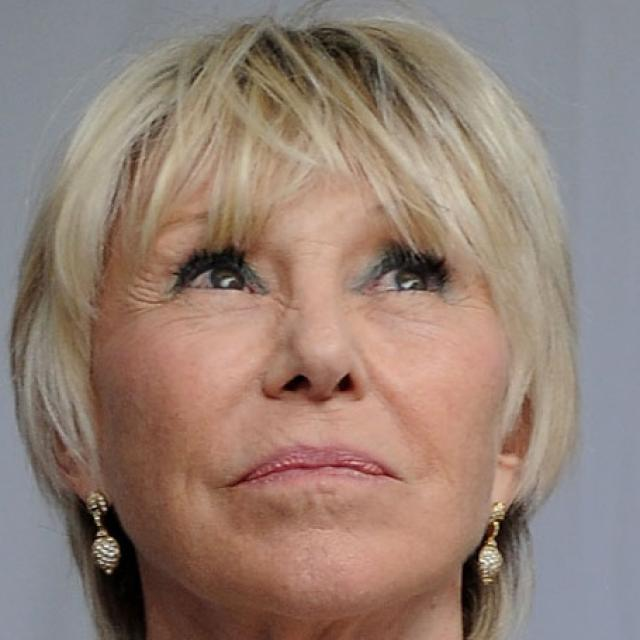Depress: (95, 92, 524, 625)
